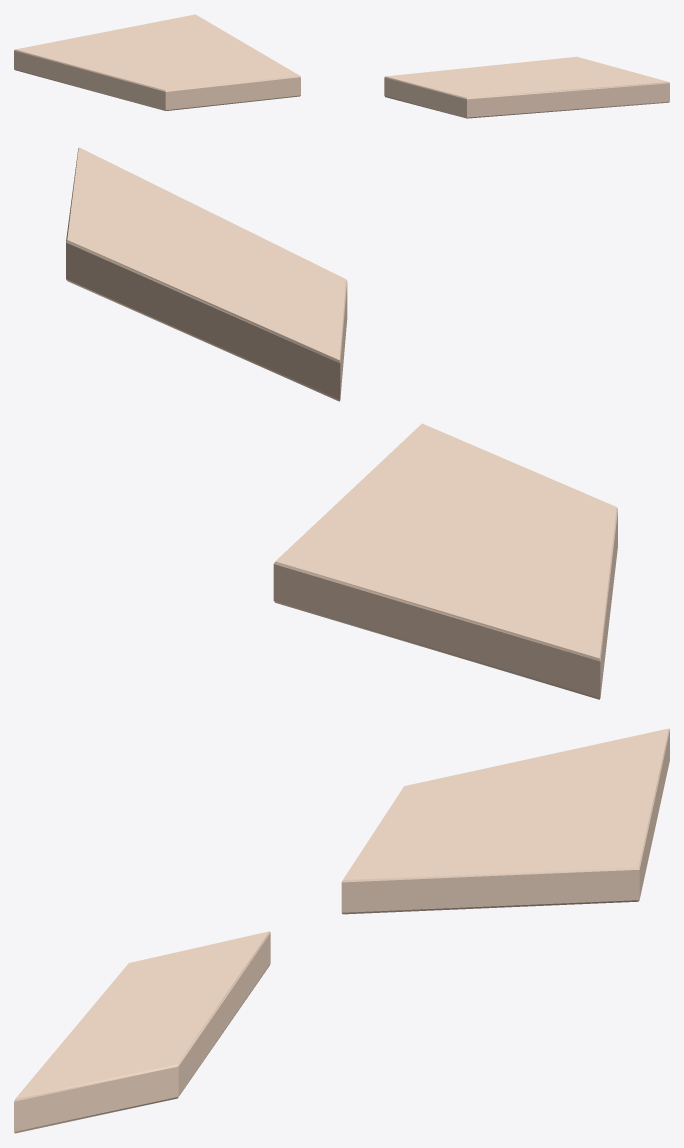
The model's file is WSM.glb.
3 renders of one model, top to bottom at view 1: azimuth 30°, elevation 25°; view 2: azimuth 150°, elevation 25°; view 3: azimuth 270°, elevation 25°, orthographic. The views are drawn at different scales.
Size of the model in its own units: 1.58 by 0.068 by 1.18.
